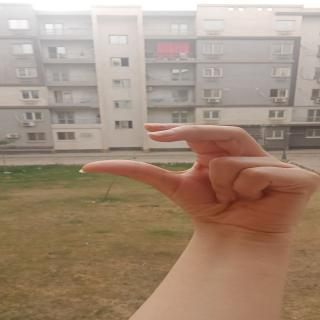DHELL: (59, 112, 320, 230)
